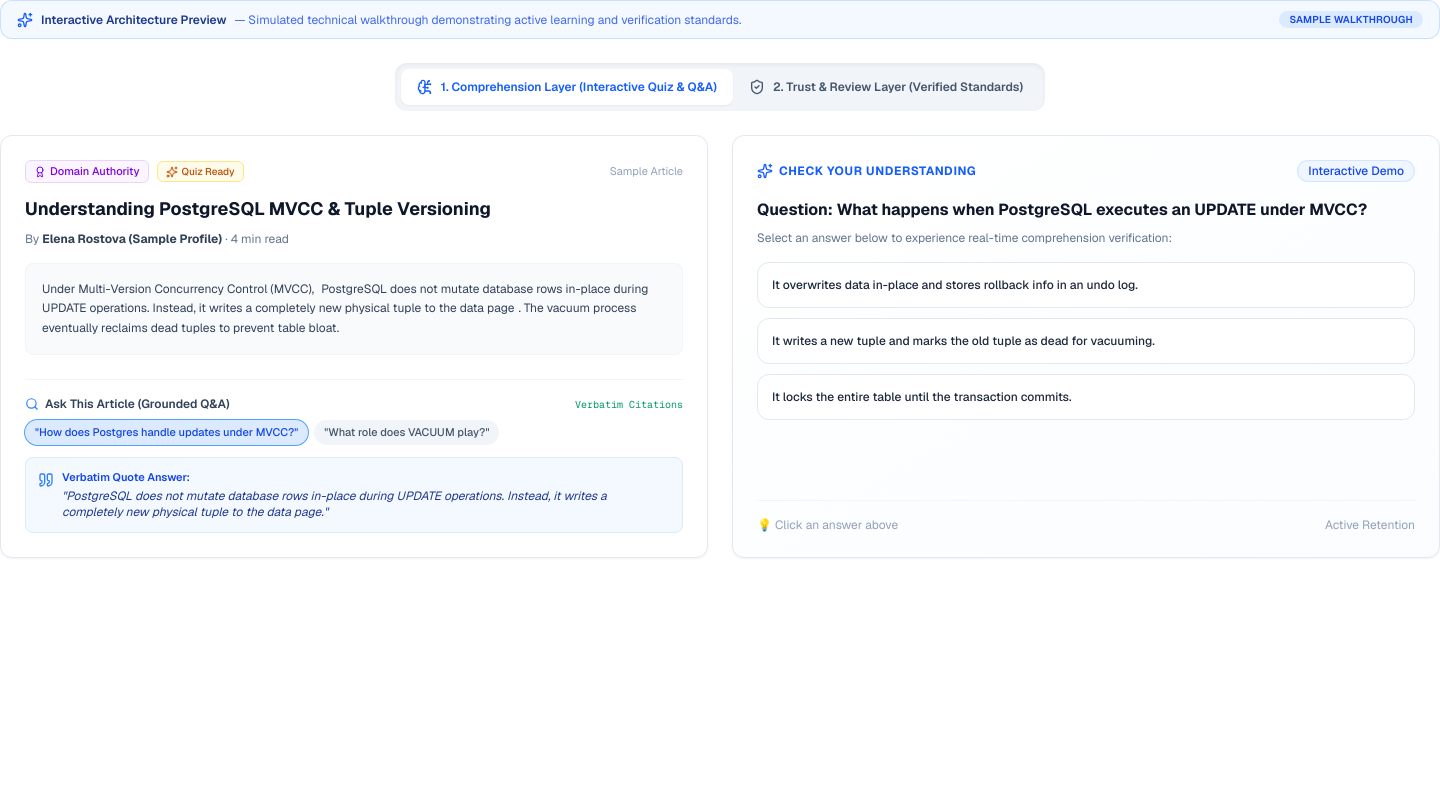
Test: InteractiveFeaturePreview › renders comprehension tab by default and switches between tabs
Expected: the text "Check Your Understanding" is shown, [779,163,976,179]
Expected: the text "Ask This Article (Grounded Q&A)" is shown, [45,396,230,412]
Switch to Trust & Review tab
What coordinates should you click on to do the following:
click the button "2. Trust & Review Layer (Verified Standards)"
I would click on:
 (886, 87)
Its box is [733,69,1039,105].
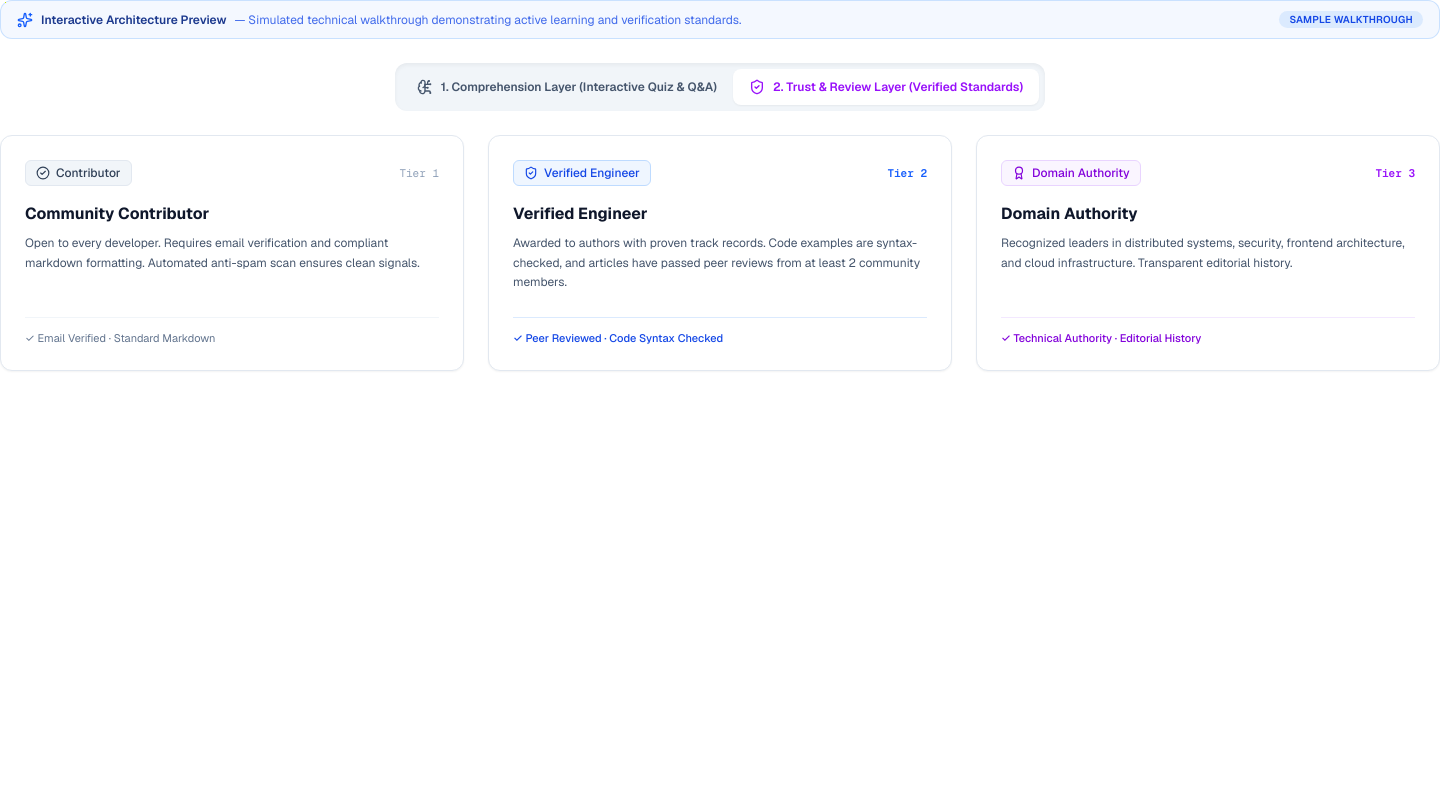
Expected: the text "Domain Authority" is shown, [1032,165,1130,181]
Now the heading "Community Contributor" is shown, box [25,203,209,224]
Now the text "Verified Engineer" is shown, box [544,165,640,181]
